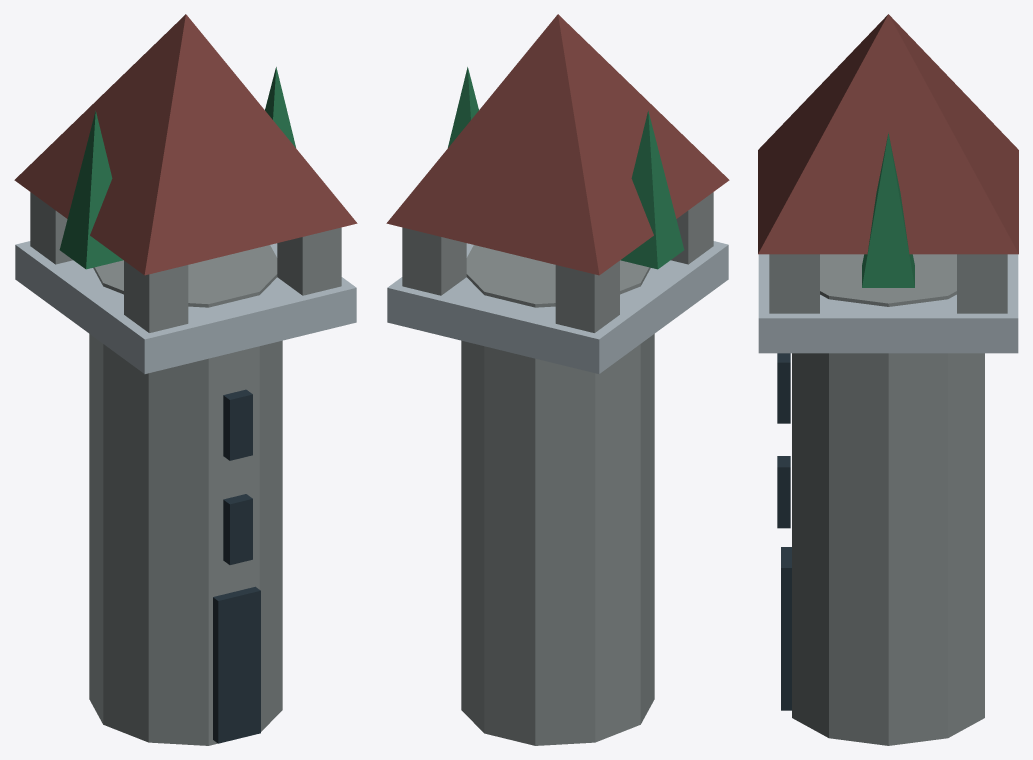
Rendered from tower.obj.
3 renders of one model, left to right at view 1: azimuth 30°, elevation 25°; view 2: azimuth 150°, elevation 25°; view 3: azimuth 270°, elevation 25°, orthographic.
Visible parts, largest first — view 1: tower; view 2: tower; view 3: tower.
Boxes of the visible parts, x1,y1,x2,y2 form: tower: (14,14,357,745); tower: (386,14,729,745); tower: (758,14,1018,745).
Bounding box in the file's own units: 1.58 × 4.61 × 1.58.
